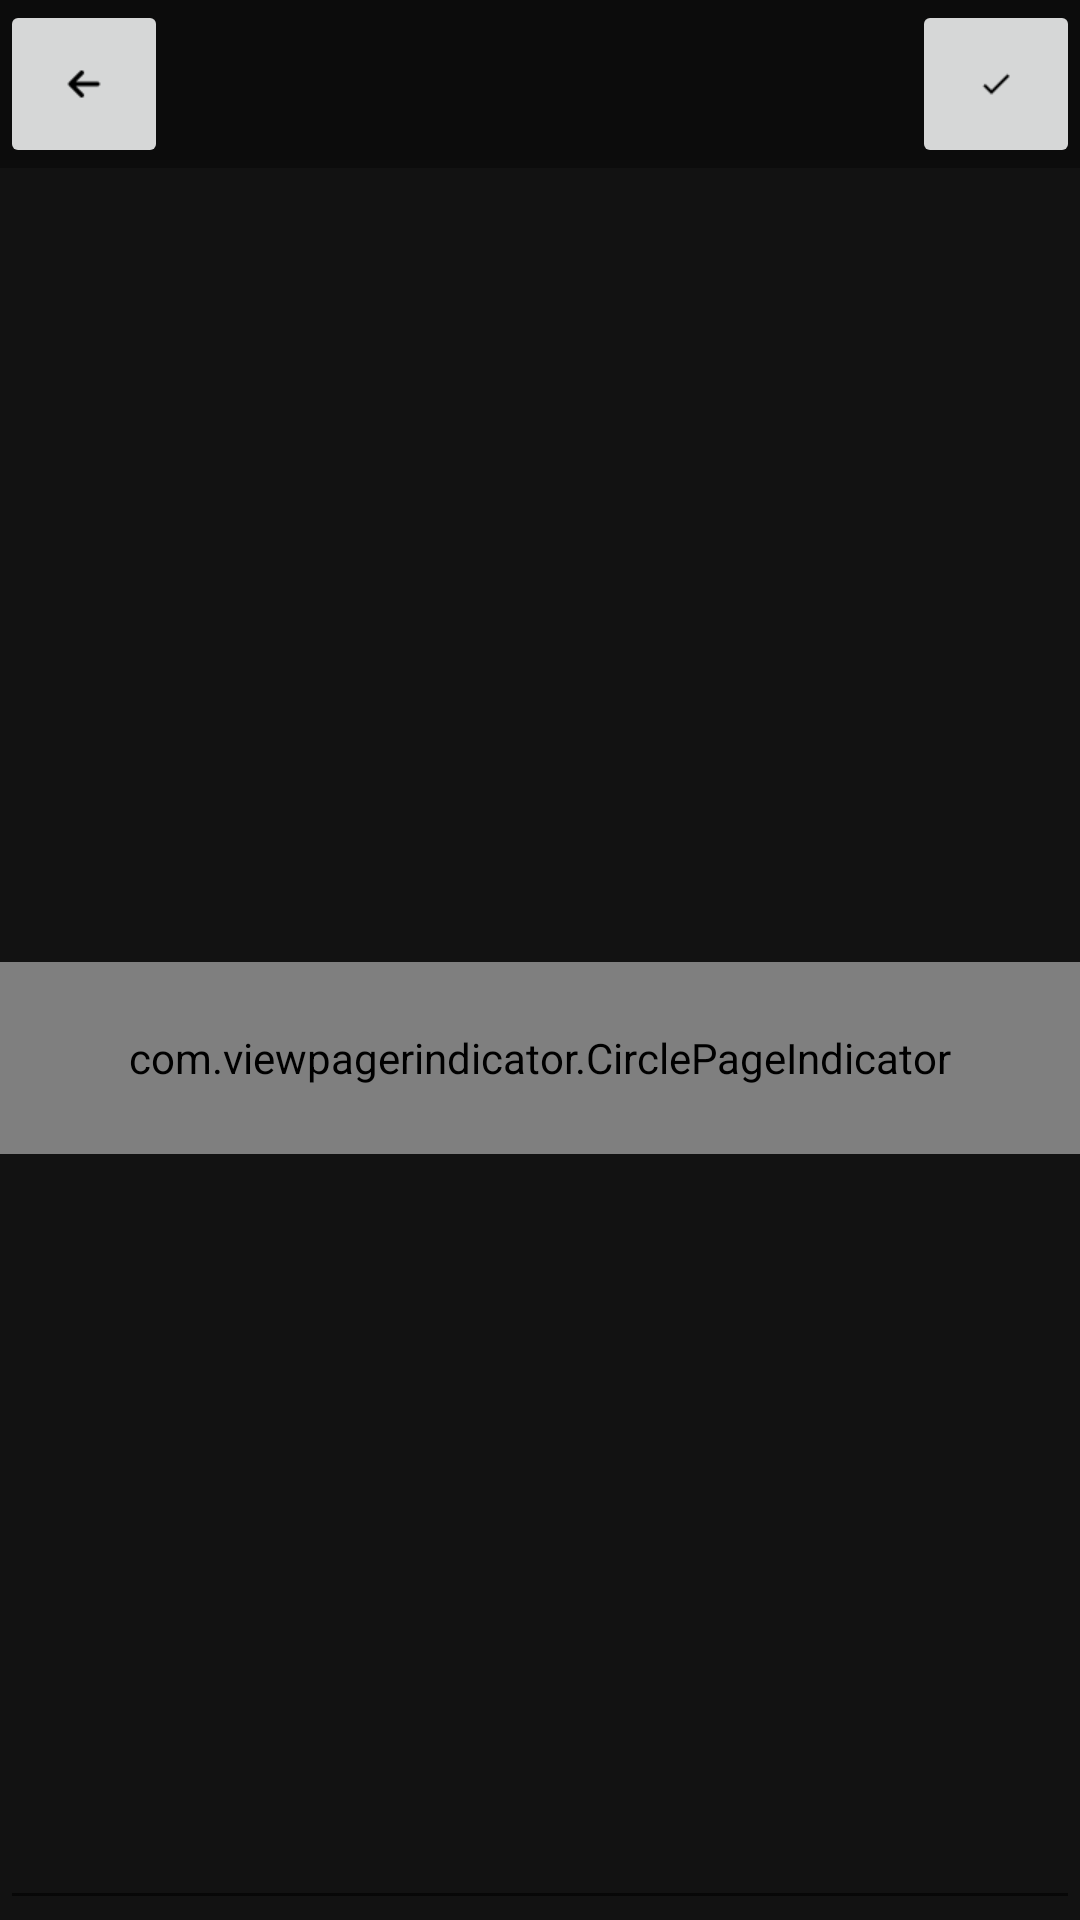

Named icons in this screenshot (1080w x 1920h) and their bounding boxes, bbox(x1, y1, x2, y2):
arrow back: bbox(12, 18, 156, 150)
done: bbox(924, 18, 1068, 150)
